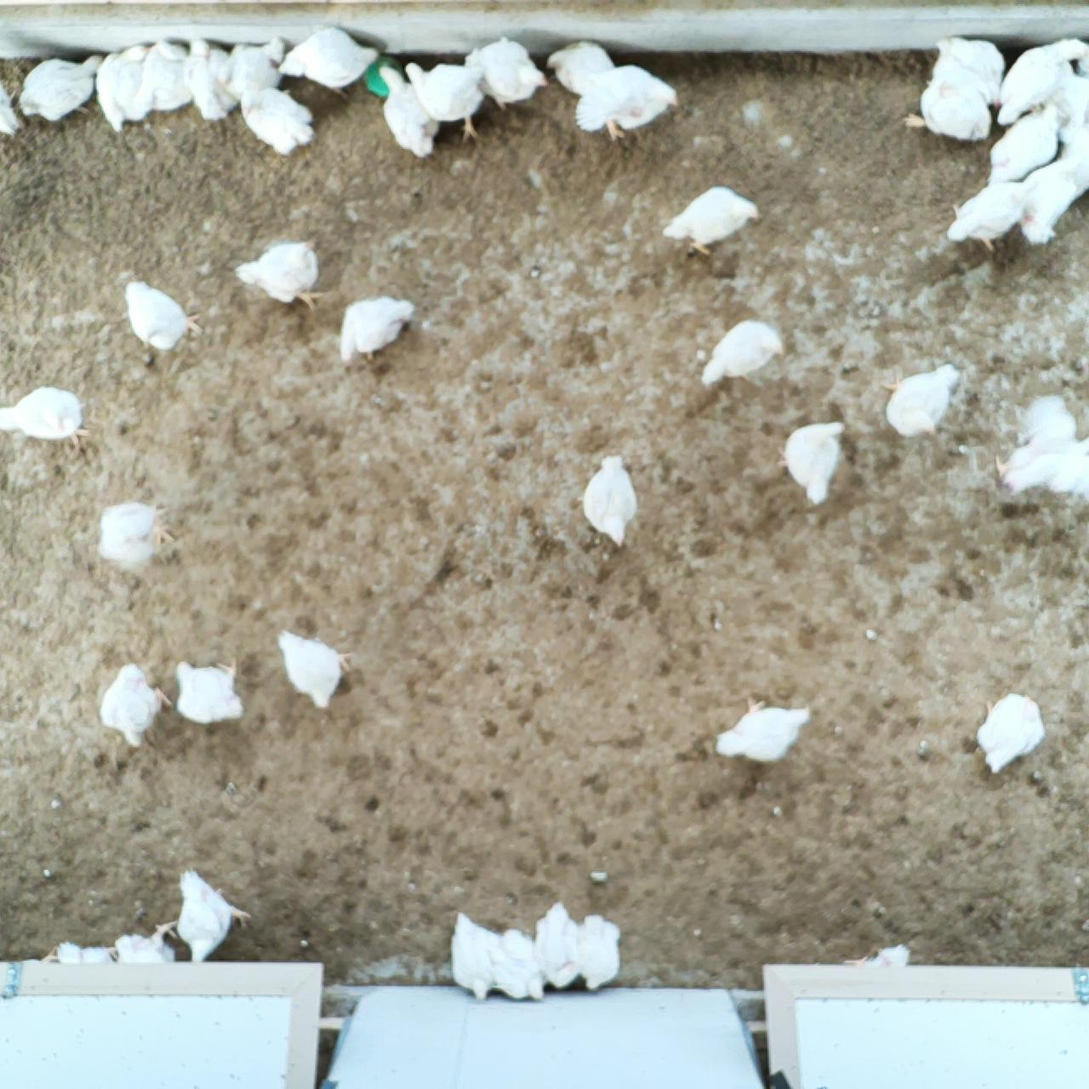chicken: (992, 396, 1089, 501), (992, 36, 1089, 129), (169, 866, 251, 972), (572, 63, 679, 144), (402, 56, 488, 145), (278, 28, 379, 101), (661, 184, 761, 257), (1011, 155, 1089, 248), (713, 695, 812, 765), (899, 72, 991, 147), (701, 315, 788, 394), (984, 103, 1063, 189), (17, 50, 106, 126), (879, 361, 962, 442), (231, 240, 325, 311), (775, 418, 847, 509), (100, 661, 174, 749), (277, 626, 354, 710), (375, 62, 442, 158), (946, 184, 1040, 252), (972, 690, 1047, 775), (122, 278, 208, 352), (37, 940, 121, 1015), (0, 382, 92, 450), (340, 292, 418, 371), (464, 38, 548, 111), (112, 920, 177, 1013), (579, 453, 639, 551), (930, 31, 1006, 108), (232, 84, 314, 155), (833, 946, 913, 1015), (183, 33, 241, 125), (448, 910, 506, 1002), (95, 500, 178, 563), (168, 659, 246, 726), (91, 43, 149, 132), (545, 40, 623, 103), (534, 900, 586, 992), (222, 35, 287, 106), (135, 39, 192, 115), (570, 912, 624, 992), (491, 927, 549, 1001), (1043, 81, 1089, 157), (0, 70, 26, 138)
